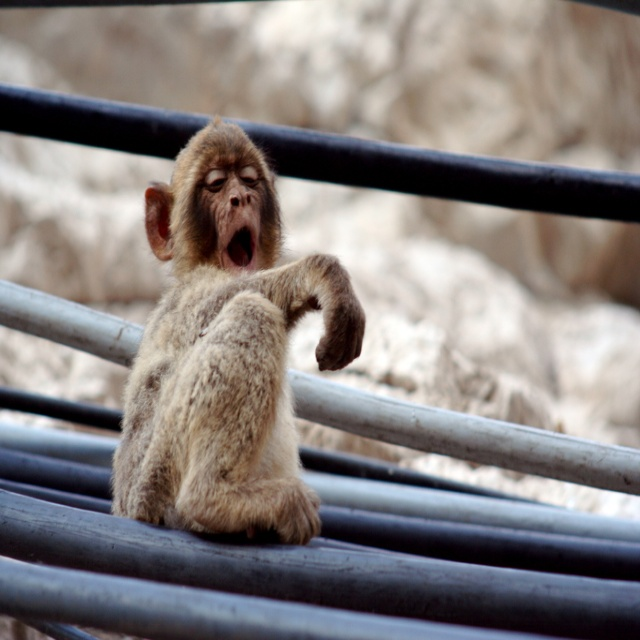Monkey: (113, 119, 364, 548)
